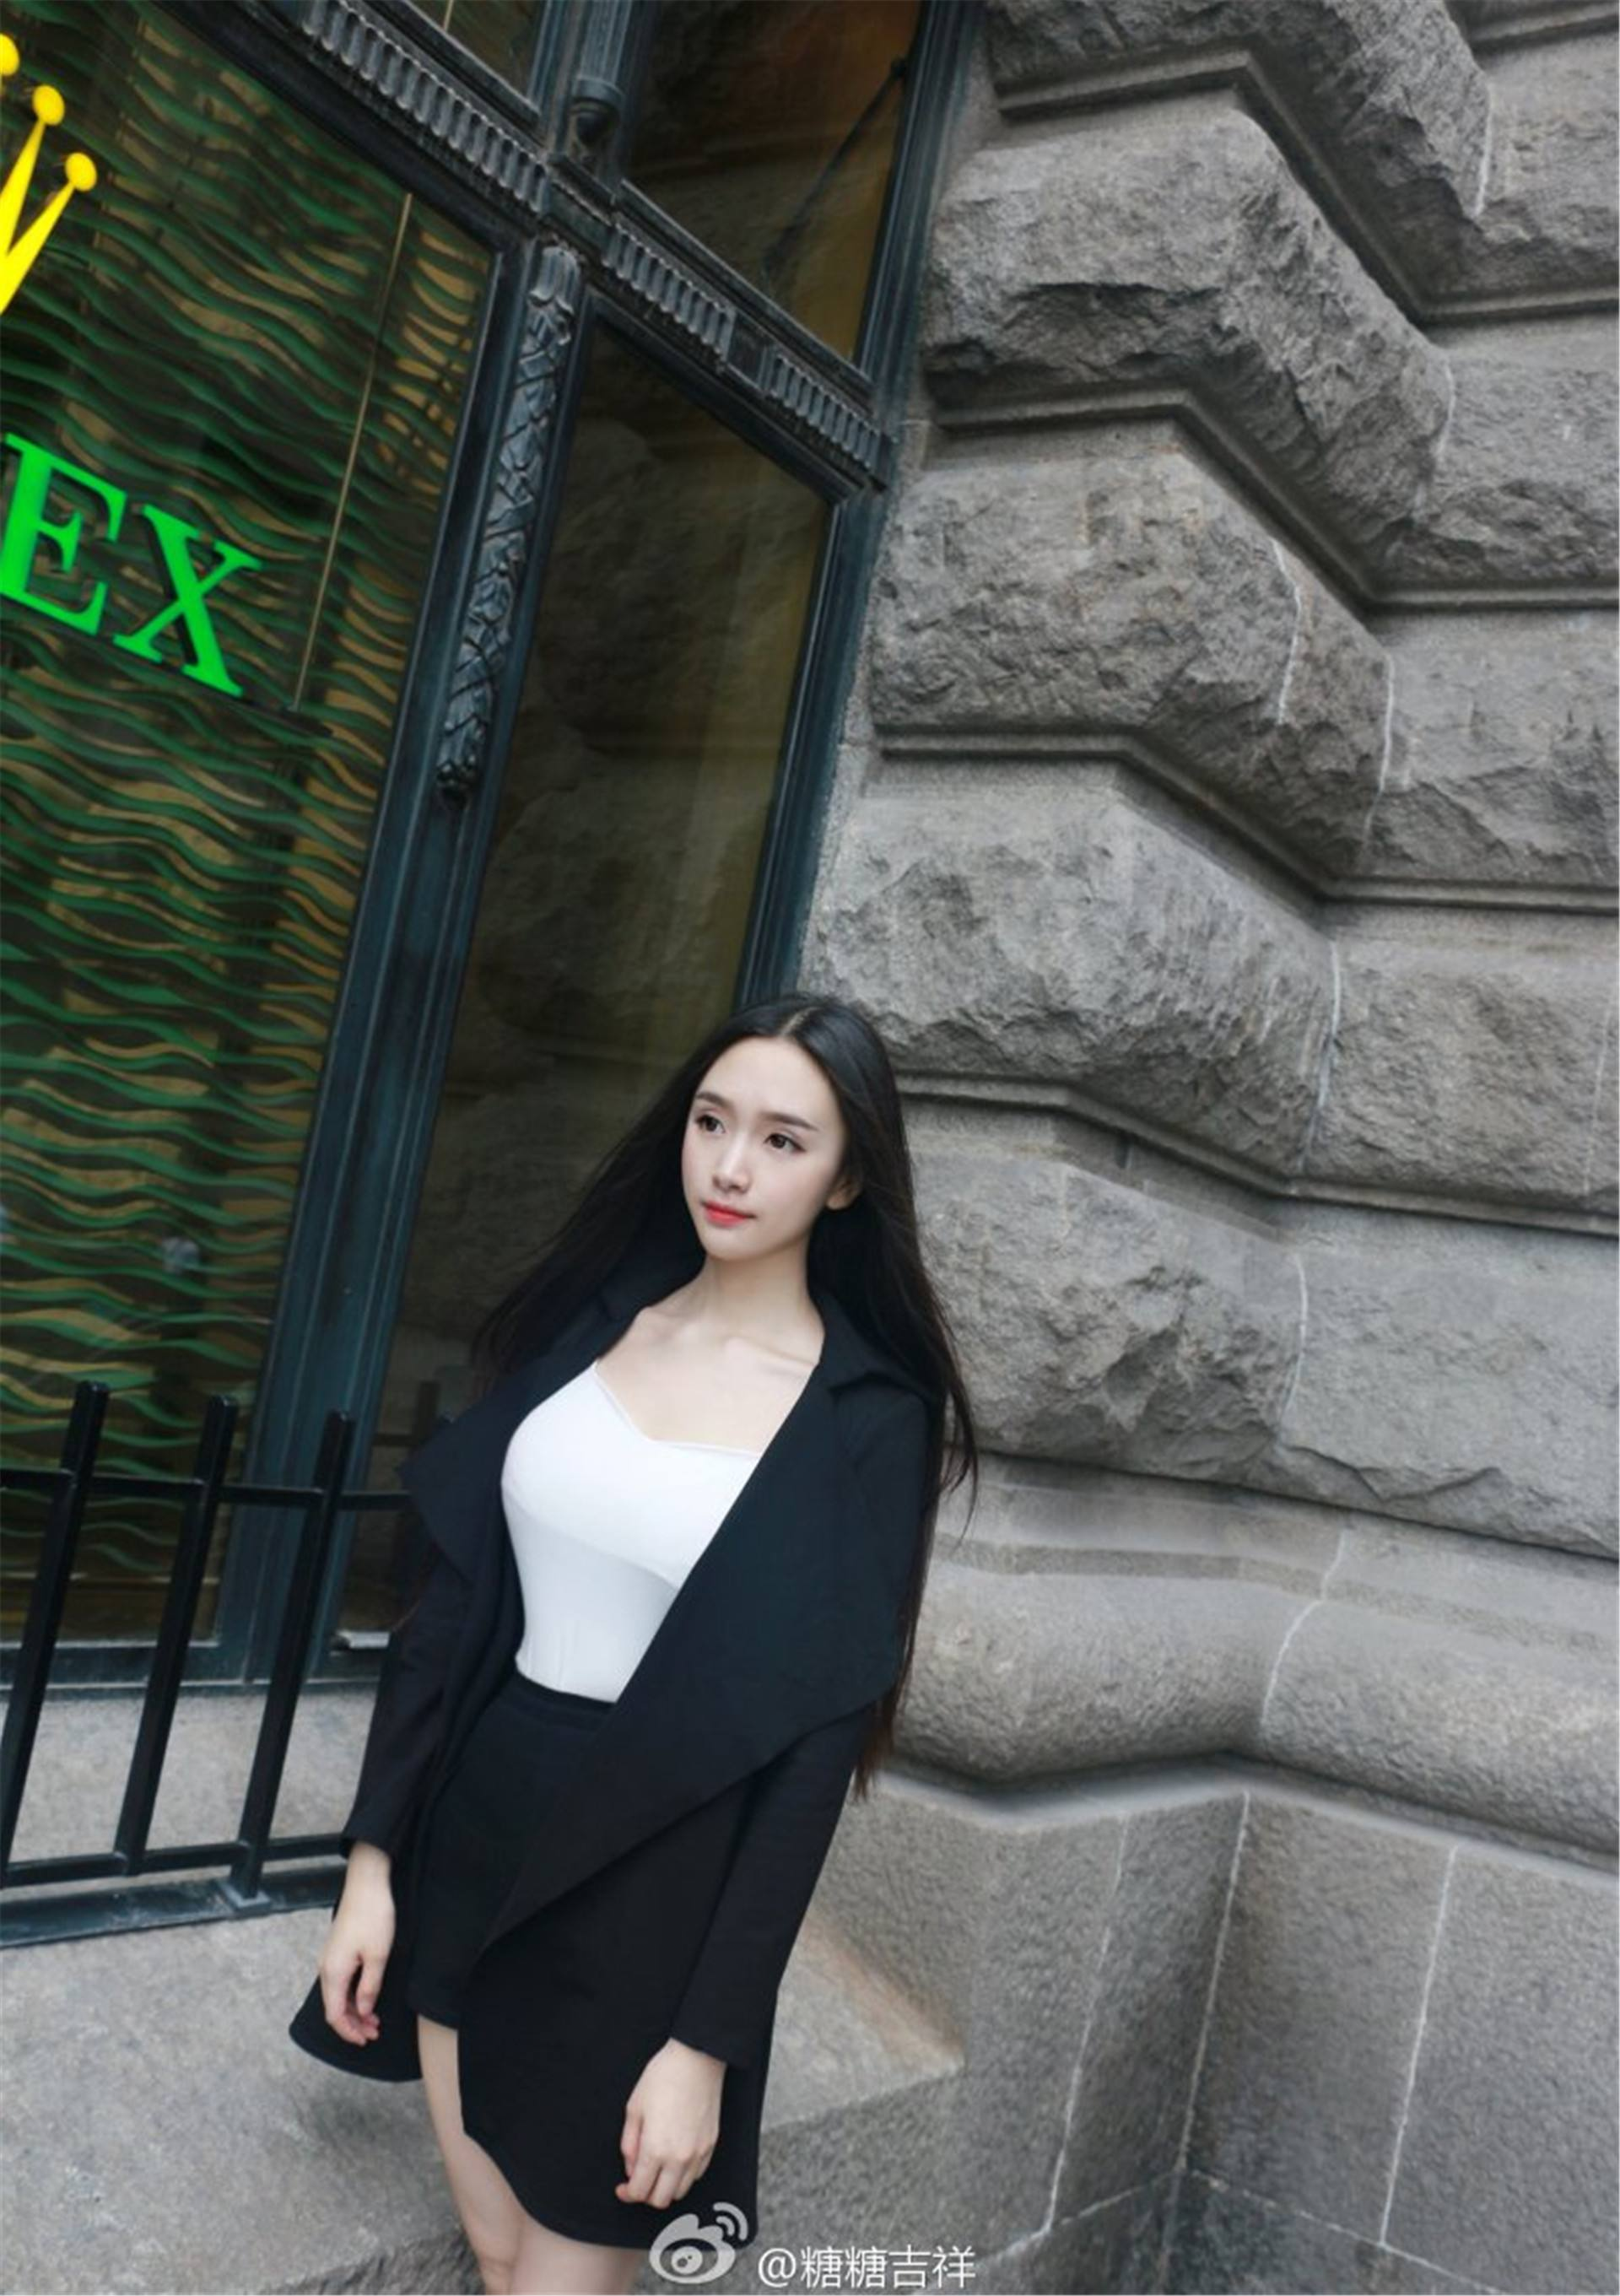person: (312, 952, 992, 2218)
